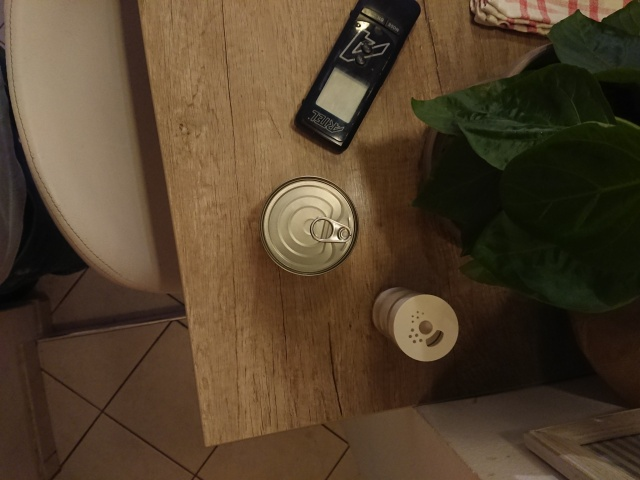Giana Tuna Salad Mexico 185g: (257, 173, 361, 281)
